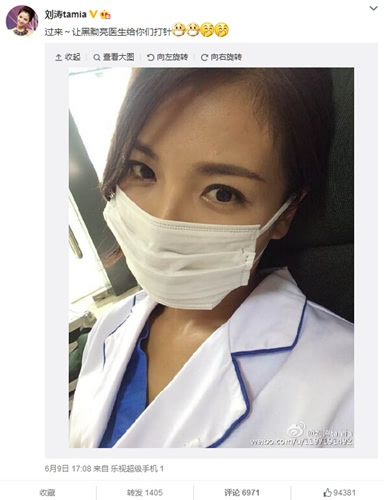face_mask: (112, 81, 273, 315)
